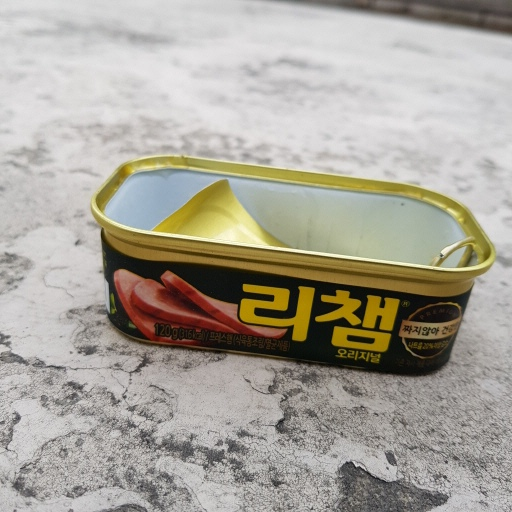Metal_2: (89, 149, 499, 384)
